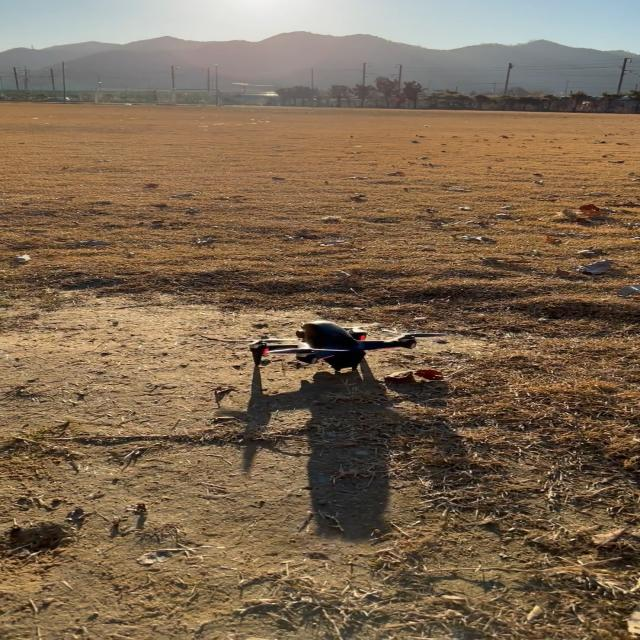drone: (227, 319, 448, 374)
